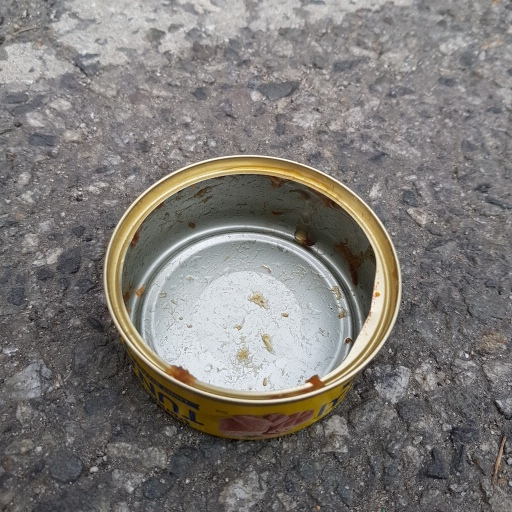Metal_1: (98, 155, 403, 441)
